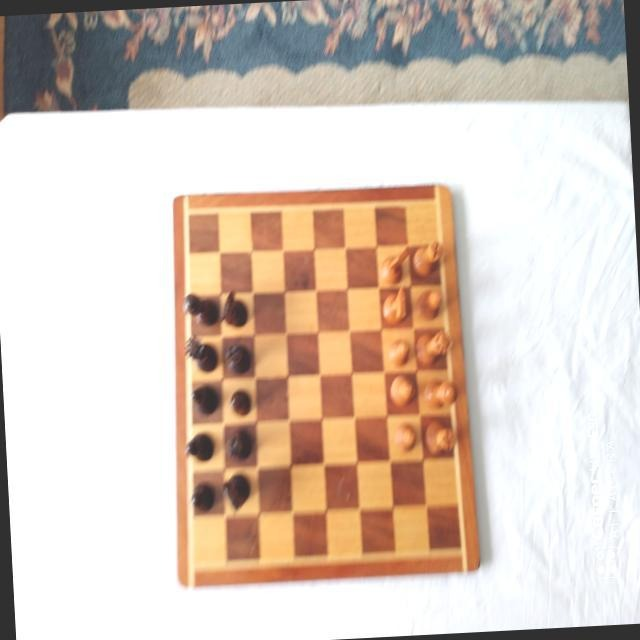black-bishop: (192, 384, 220, 416), (185, 434, 214, 462)
black-king: (183, 291, 220, 329)
black-knight: (218, 287, 250, 329), (221, 474, 251, 510)
black-pawn: (191, 481, 217, 512), (230, 389, 251, 416)
black-queen: (183, 334, 219, 374)
black-rook: (225, 428, 253, 459), (226, 343, 252, 374)
white-bishop: (416, 287, 444, 320), (390, 376, 416, 408)
white-king: (423, 378, 459, 410)
white-knight: (379, 244, 415, 286), (382, 285, 408, 326)
white-pawn: (394, 422, 418, 453), (388, 338, 411, 367)
white-queen: (414, 328, 454, 366)
white-rook: (424, 420, 458, 456), (412, 241, 444, 277)
